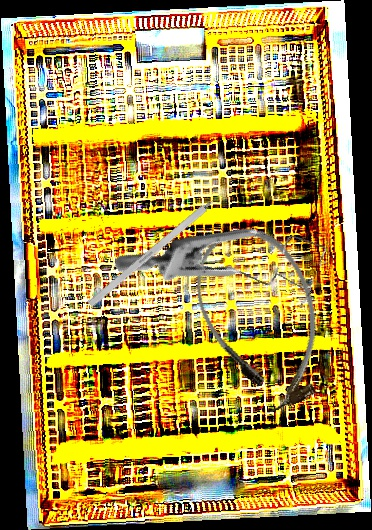Cannula: (180, 216, 344, 424)
Hook Surgical: (87, 182, 234, 308)
Speculum: (111, 163, 347, 378)
